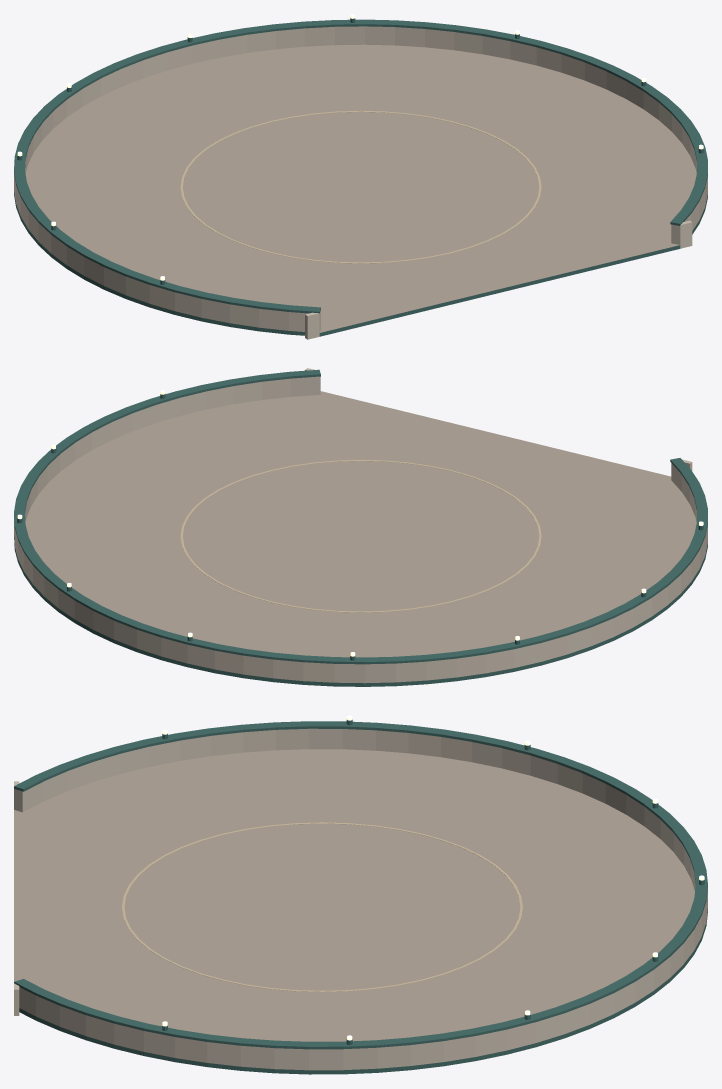
File: TC_Arena.glb
The picture shows the model from 3 angles, top to bottom: view 1: azimuth 30°, elevation 25°; view 2: azimuth 150°, elevation 25°; view 3: azimuth 270°, elevation 25°; orthographic projection. The views are drawn at different scales.
Parts seen in each view (by area): view 1: TC_Arena; view 2: TC_Arena; view 3: TC_Arena.
Part boxes in pixels (box(x1,y1,x2,y2)): TC_Arena: box(14, 14, 707, 339); TC_Arena: box(14, 368, 707, 686); TC_Arena: box(14, 715, 707, 1074).
Bounding box in the file's own units: 200 × 10.05 × 180.
2 materials, 2 textured.
